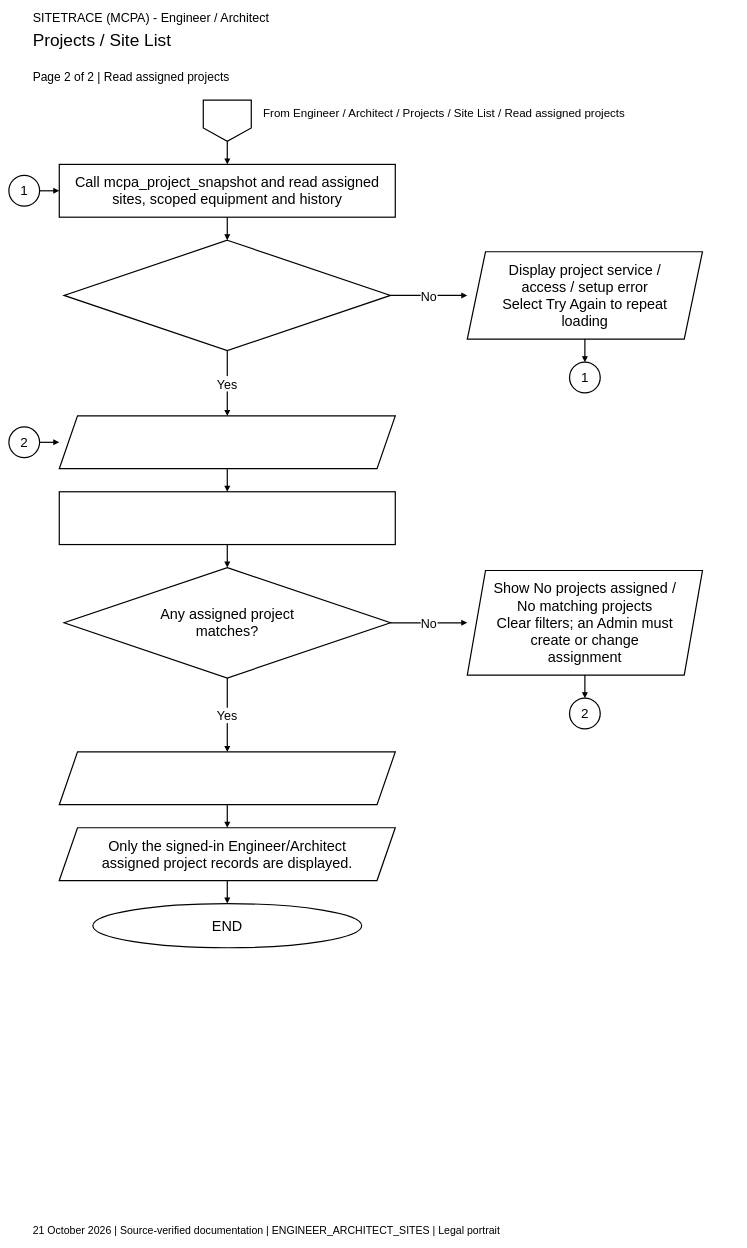
Some shapes in this 747 by 1248 pixel diagram are drawn without their labels. The shapes that lost their labels are listed below. From the top down, each one's box as (x1, y1, x2, y2) in pixels, then its label:
(202, 99, 252, 142): KX
(63, 239, 391, 351): Scoped project snapshot loads?
(58, 415, 396, 469): Search assigned projects; optionally include archived records
(58, 491, 396, 545): Filter by current profile assignment, archive selection and search text
(58, 751, 396, 805): Open selected project card; keep all metadata and assignments read-only
